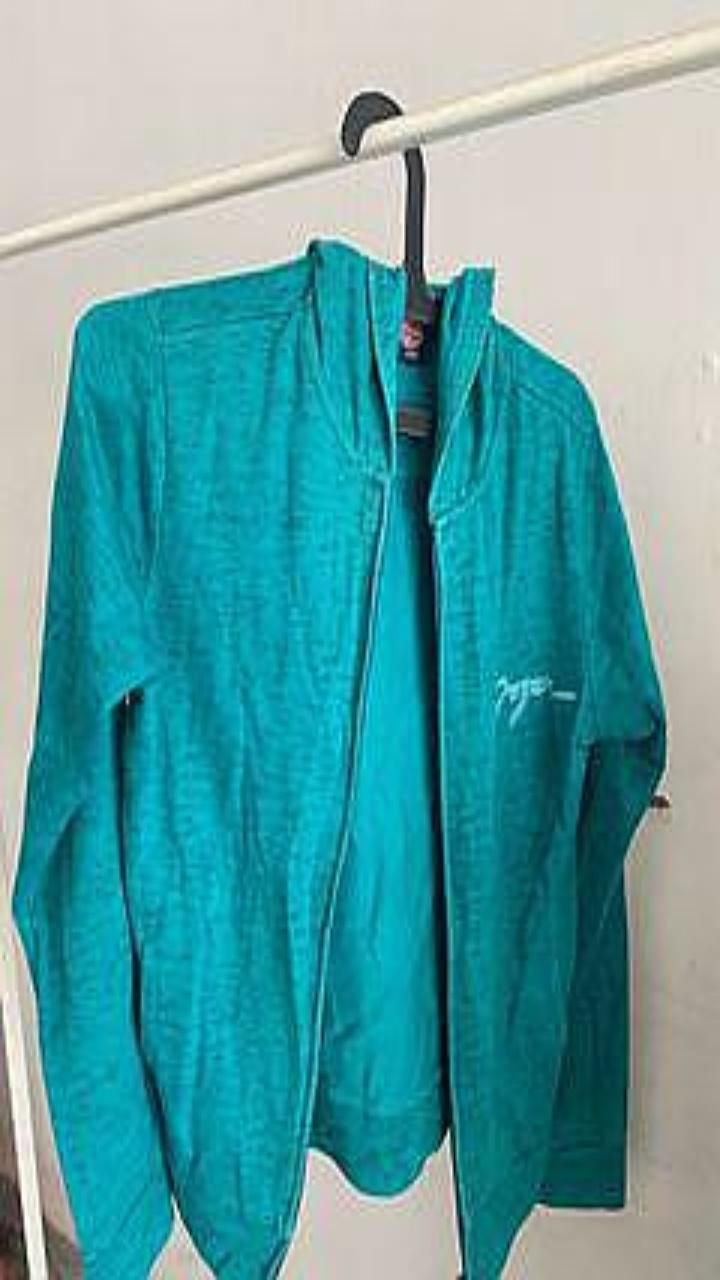Sports_Jacket: (13, 239, 665, 1279)
